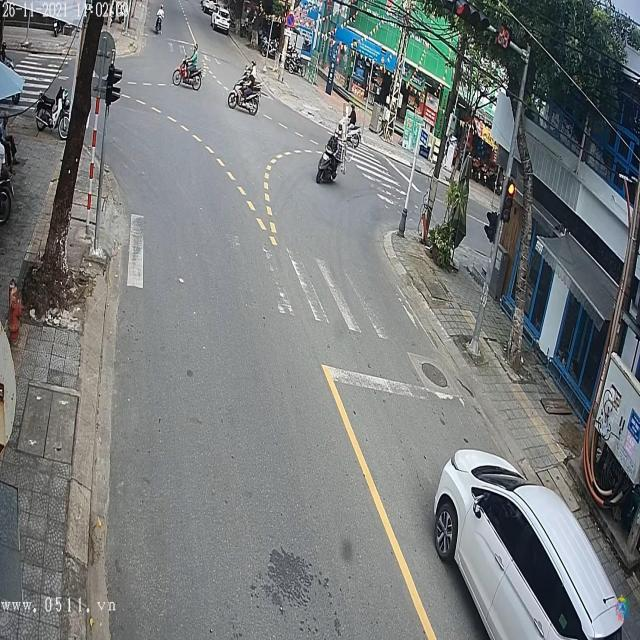car: (434, 448, 628, 636)
motorcycle: (227, 82, 260, 114), (314, 151, 343, 184), (336, 113, 361, 151), (173, 60, 204, 90)
